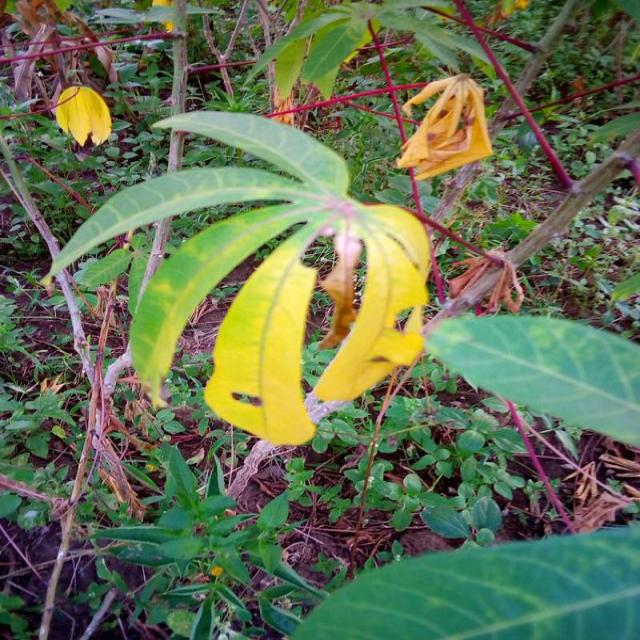cassava leaf: (41, 107, 433, 447), (286, 523, 640, 638), (422, 309, 639, 449), (54, 83, 112, 147)
